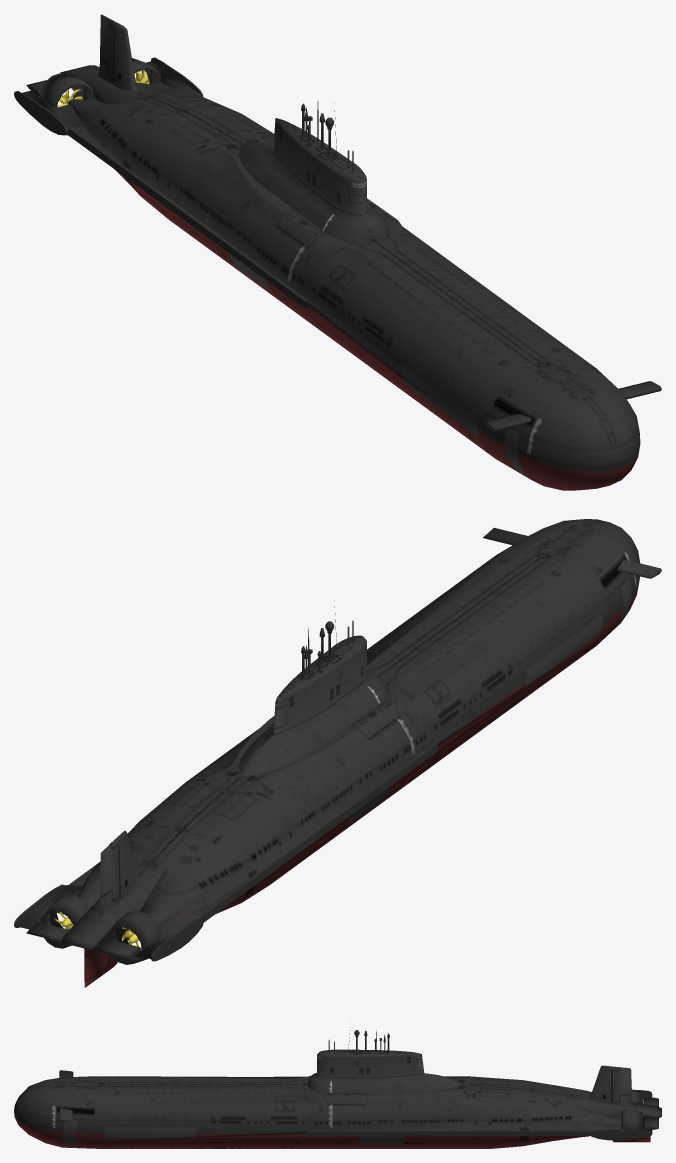
File: boat_sub.glb
The picture shows the model from 3 angles, top to bottom: view 1: azimuth 30°, elevation 25°; view 2: azimuth 150°, elevation 25°; view 3: azimuth 270°, elevation 25°; orthographic projection. The views are drawn at different scales.
Visible parts, largest first — view 1: Cube; view 2: Cube; view 3: Cube.
Boxes of the visible parts, left/top/right/bottom form: Cube: left=14, top=14, right=661, bottom=490; Cube: left=14, top=519, right=661, bottom=987; Cube: left=14, top=1027, right=661, bottom=1148.
Bounding box in the file's own units: 1.44 × 1.72 × 8.
Materials: 2 (1 with a texture image).
